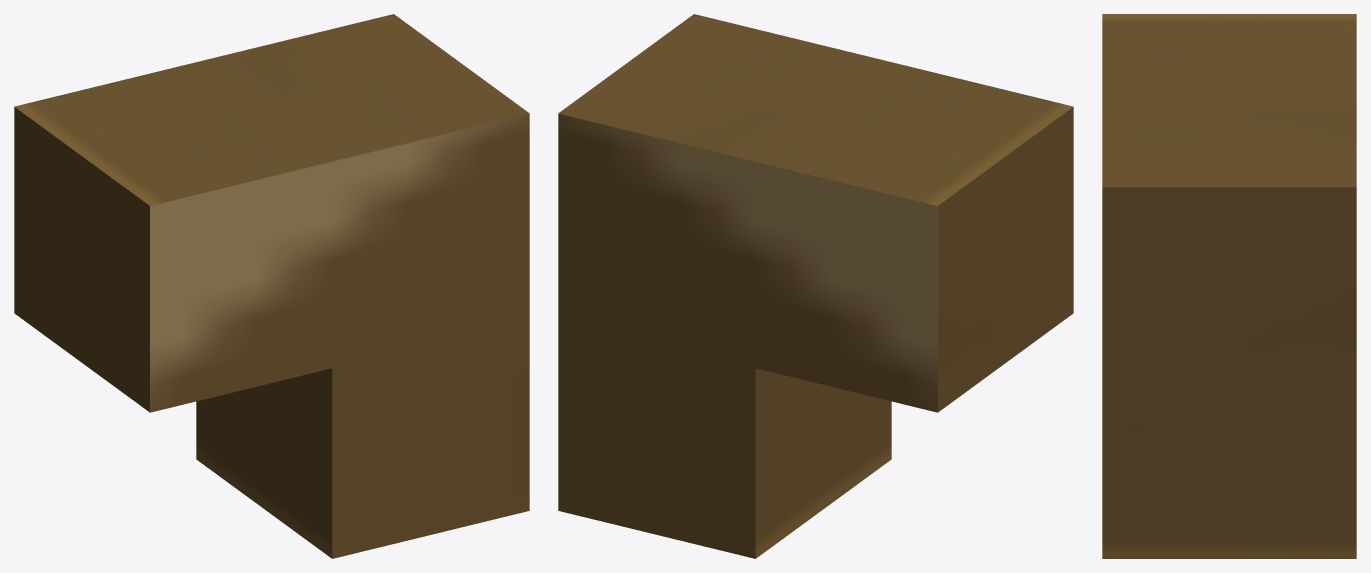
The model's file is pz_counter_birchwood_wall_corner.obj.
3 renders of one model, left to right at view 1: azimuth 30°, elevation 25°; view 2: azimuth 150°, elevation 25°; view 3: azimuth 270°, elevation 25°, orthographic. The views are drawn at different scales.
Bounding box in the file's own units: 1 × 1 × 0.62.
Materials: 1 (1 with a texture image).
